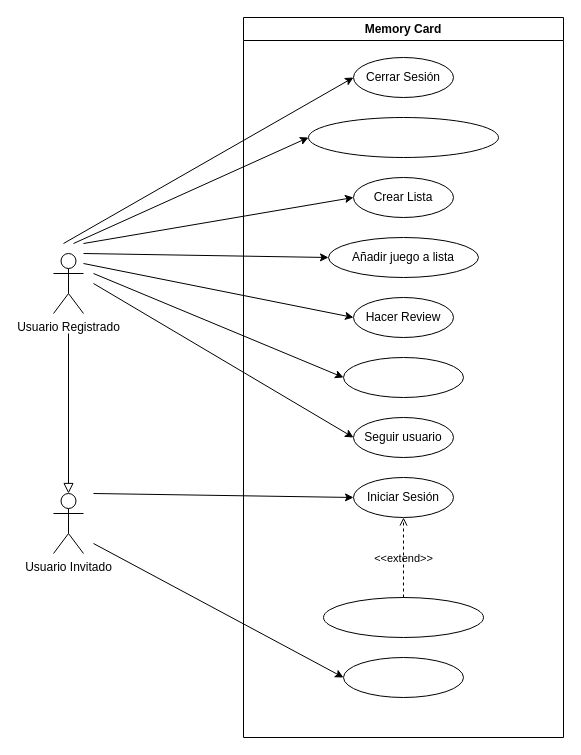
Some shapes in this 581 by 755 pixel diagram are drawn without their labels. The shapes that lost their labels are listed below. From the top down, each one's centre as x and y in pixels, then its label:
point 403,137: Añadir juego a la biblioteca
point 403,377: Dar like a review
point 403,617: Recuperar contraseña
point 403,677: Buscar un juego
